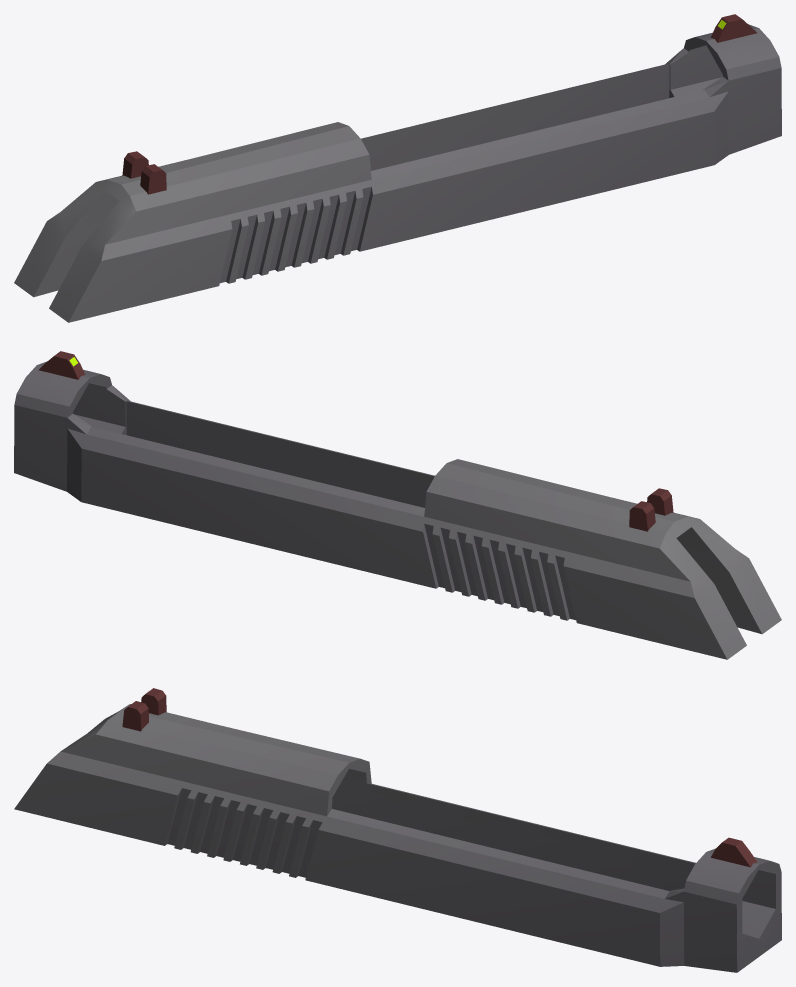
The model's file is Pistol1_06_2.fbx.
3 views of the same model, one above another, from view 1: azimuth 30°, elevation 25°; view 2: azimuth 150°, elevation 25°; view 3: azimuth 330°, elevation 25° (orthographic).
Visible parts, largest first — view 1: Pistol1_06_2; view 2: Pistol1_06_2; view 3: Pistol1_06_2.
Part boxes in pixels (box(x1,y1,x2,y2)): Pistol1_06_2: box(14, 14, 781, 322); Pistol1_06_2: box(14, 351, 781, 659); Pistol1_06_2: box(14, 688, 781, 972).
Bounding box in the file's own units: 0.2348 × 0.0363 × 0.0308.
